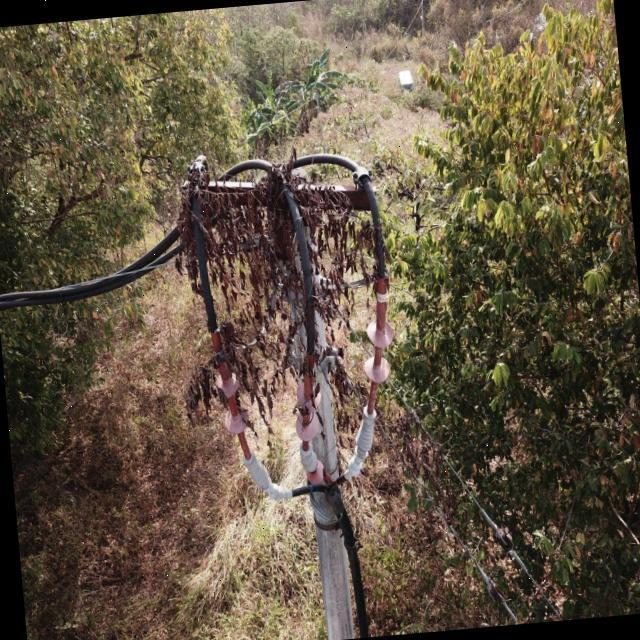critical vegetation: (158, 129, 415, 499)
